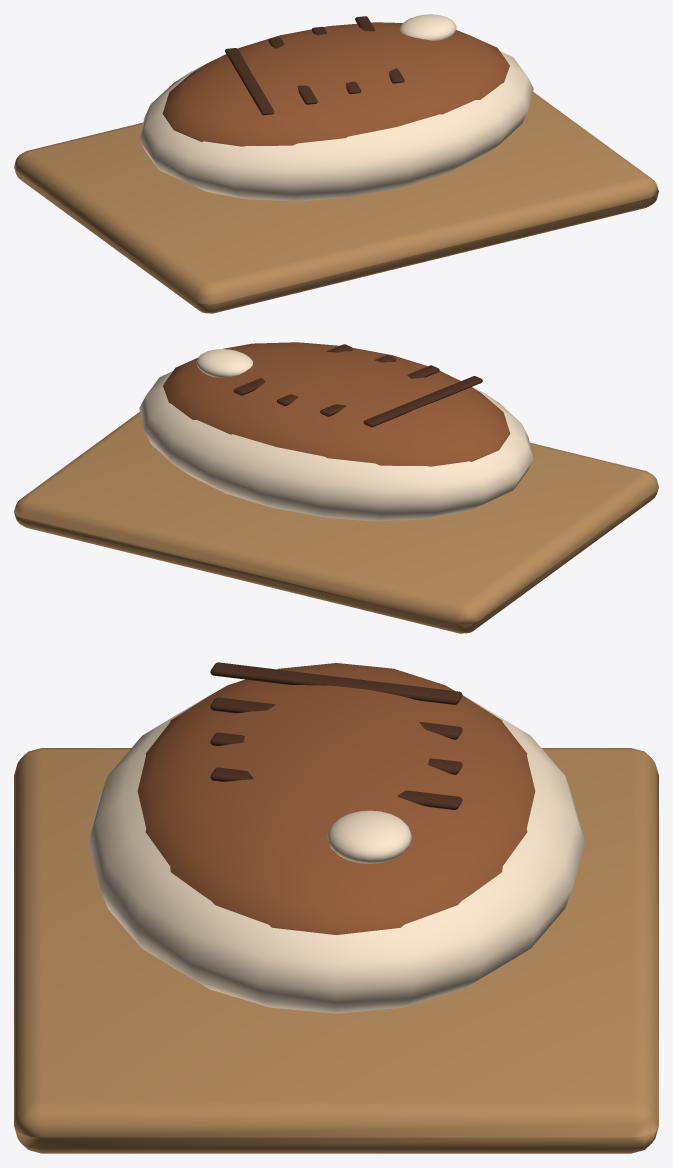
File: cooked_meat.glb
3 views of the same model, one above another, from view 1: azimuth 30°, elevation 25°; view 2: azimuth 150°, elevation 25°; view 3: azimuth 270°, elevation 25° (orthographic). The views are drawn at different scales.
Visible parts, largest first — view 1: Serving board, Meat, Meat fat, Bone, Sear stripe; view 2: Serving board, Meat, Meat fat, Bone, Sear stripe, Sear stripe.001; view 3: Serving board, Meat, Meat fat, Bone, Sear stripe, Sear stripe.003, Sear stripe.001, Sear stripe.002.
Part boxes in pixels (x1=…): Serving board: x1=14, y1=92, x2=658, y2=313; Meat: x1=162, y1=22, x2=510, y2=146; Meat fat: x1=139, y1=51, x2=533, y2=201; Bone: x1=399, y1=14, x2=456, y2=40; Sear stripe: x1=225, y1=48, x2=274, y2=115; Serving board: x1=14, y1=412, x2=658, y2=633; Meat: x1=162, y1=342, x2=510, y2=466; Meat fat: x1=139, y1=371, x2=533, y2=521; Bone: x1=196, y1=349, x2=252, y2=377; Sear stripe: x1=363, y1=376, x2=482, y2=427; Sear stripe.001: x1=320, y1=365, x2=439, y2=416; Serving board: x1=14, y1=748, x2=658, y2=1153; Meat: x1=137, y1=663, x2=535, y2=934; Meat fat: x1=87, y1=695, x2=585, y2=1013; Bone: x1=327, y1=810, x2=411, y2=863; Sear stripe: x1=210, y1=662, x2=462, y2=704; Sear stripe.003: x1=210, y1=767, x2=462, y2=809; Sear stripe.001: x1=210, y1=697, x2=462, y2=739; Sear stripe.002: x1=210, y1=732, x2=462, y2=774.
Size of the model in its own units: 0.48 by 0.142 by 0.35.
